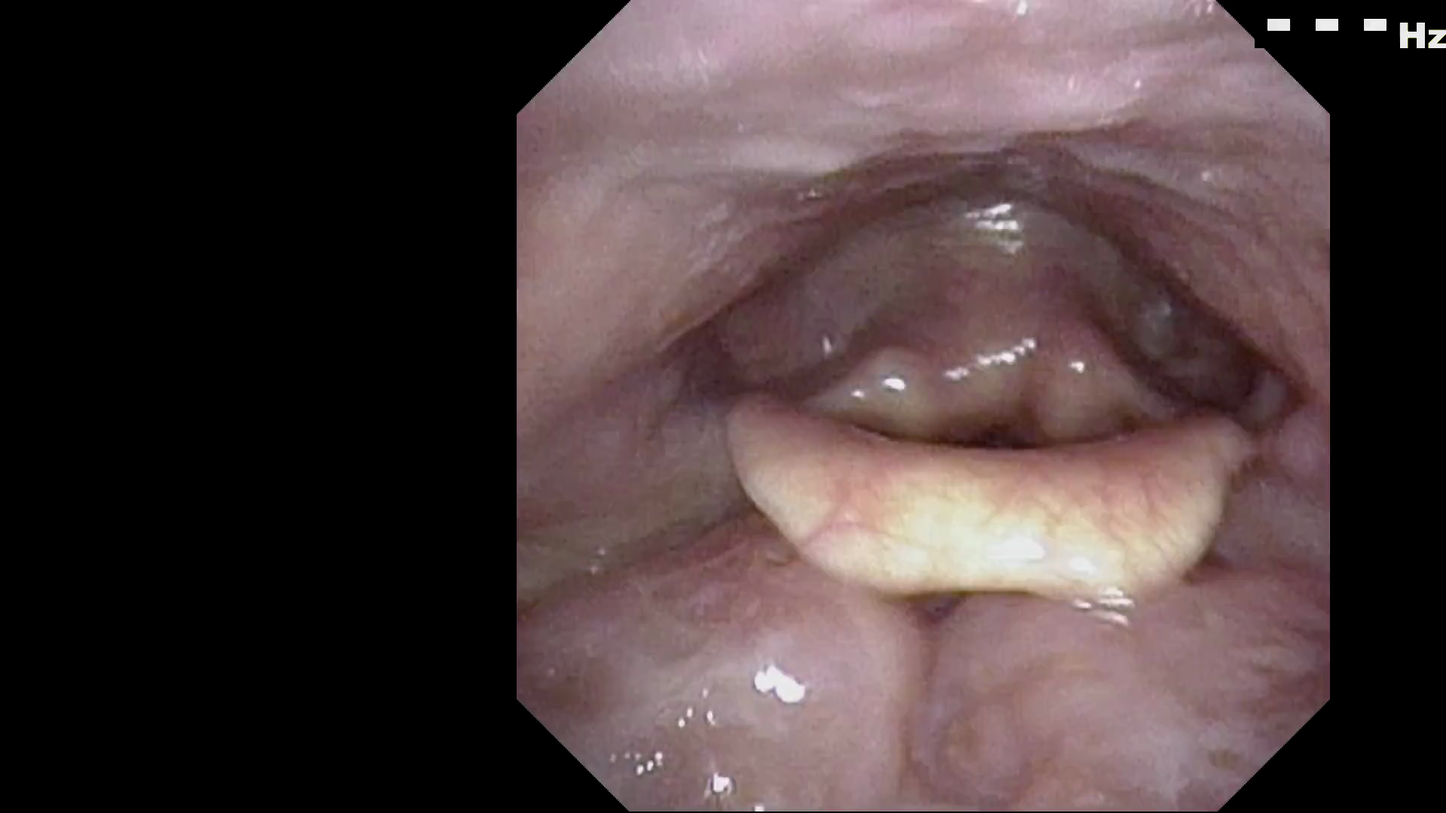epiglottis: (699, 378, 1301, 617)
trachea: (947, 359, 1093, 513)
